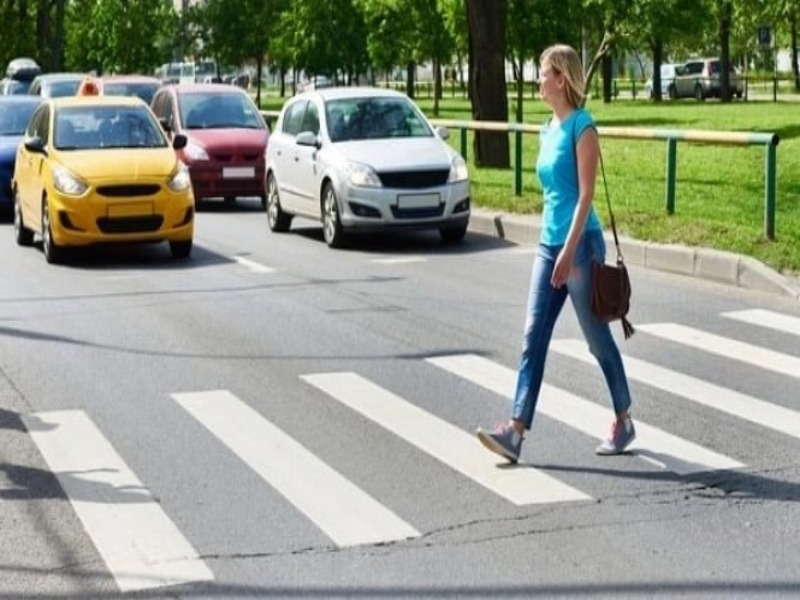zebra cross: (19, 303, 798, 590)
